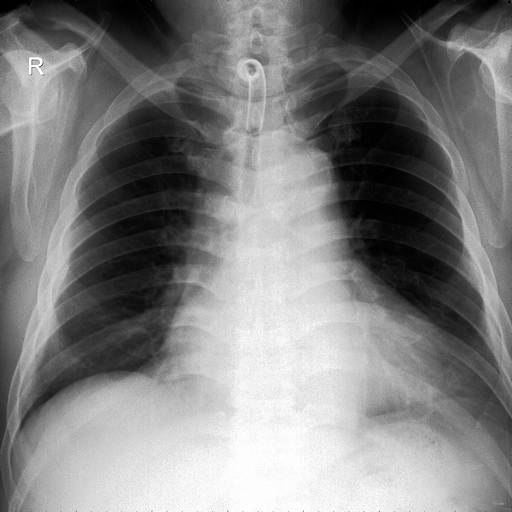Calcification: (123, 75, 233, 110), (291, 60, 399, 95)
Consolidation: (268, 134, 349, 239)
Nodule/Mass: (165, 294, 449, 422)
